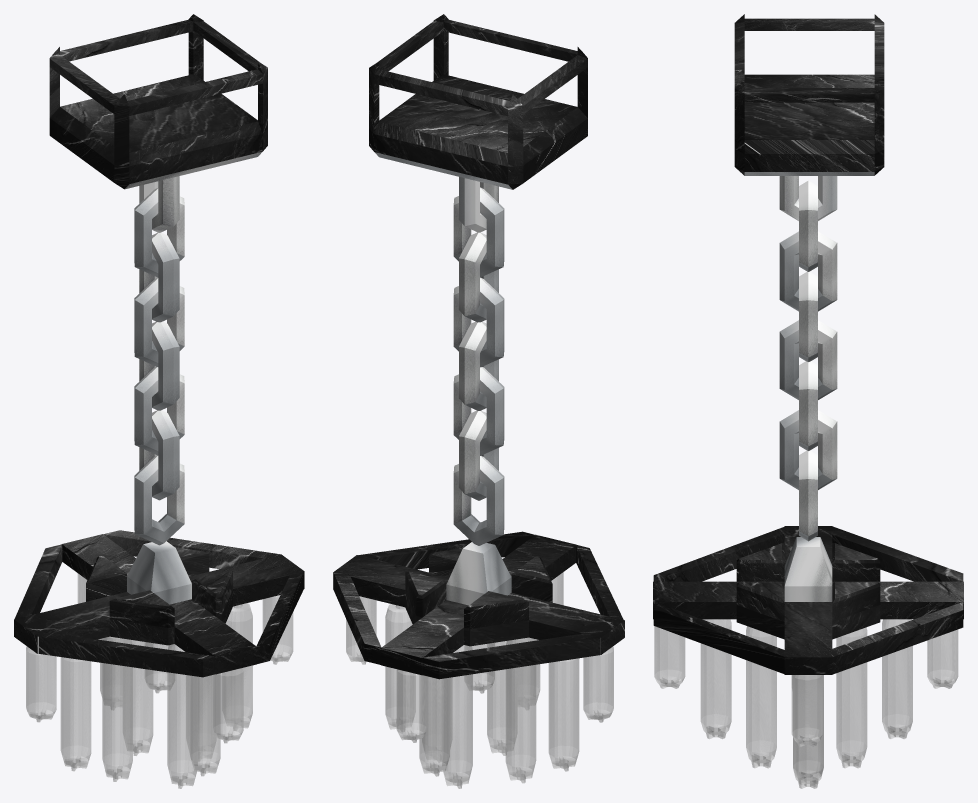
The model's file is Chandelier.fbx.
The picture shows the model from 3 angles, left to right: view 1: azimuth 30°, elevation 25°; view 2: azimuth 150°, elevation 25°; view 3: azimuth 270°, elevation 25°; orthographic projection.
Parts seen in each view (by area): view 1: BottomShape; view 2: BottomShape; view 3: BottomShape.
Boxes of the visible parts, x1=… form: BottomShape: x1=14, y1=14, x2=304, y2=788; BottomShape: x1=333, y1=14, x2=624, y2=788; BottomShape: x1=653, y1=14, x2=963, y2=788.
Size of the model in its own units: 2.17 by 5.52 by 2.17.
4 materials, 3 textured.
